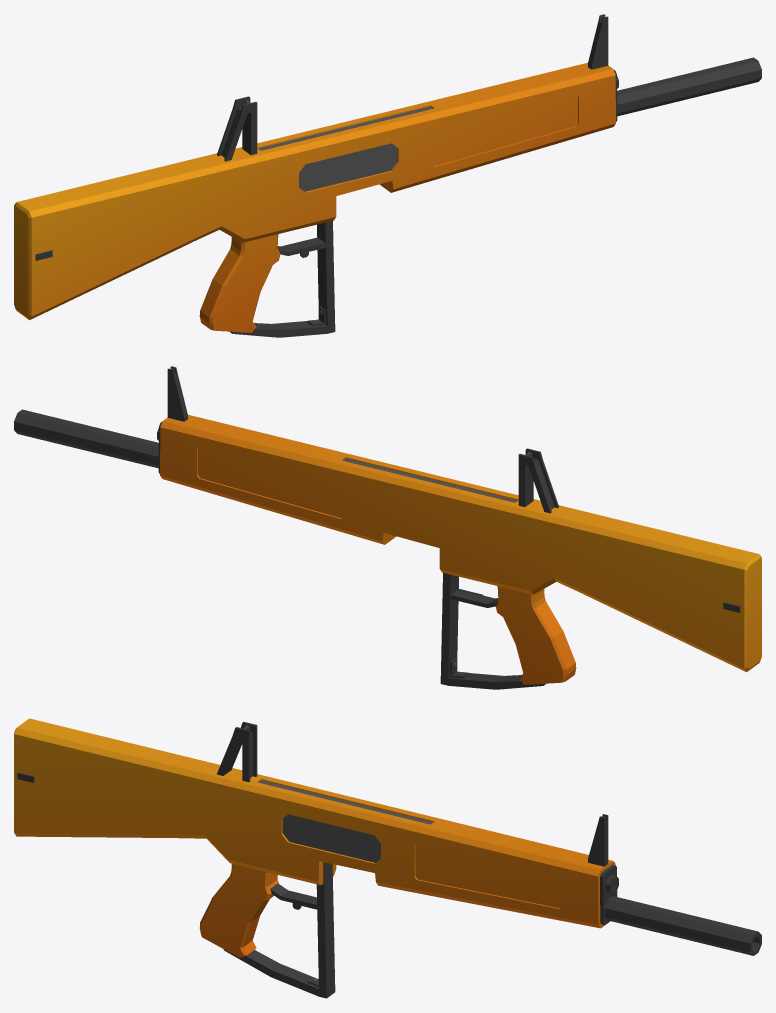
Rendered from Shotgun1_04.fbx.
3 renders of one model, top to bottom at view 1: azimuth 30°, elevation 25°; view 2: azimuth 150°, elevation 25°; view 3: azimuth 330°, elevation 25°, orthographic.
Visible parts, largest first — view 1: Shotgun1_04; view 2: Shotgun1_04; view 3: Shotgun1_04.
Boxes of the visible parts, x1,y1,x2,y2 form: Shotgun1_04: (14, 14, 761, 337); Shotgun1_04: (14, 366, 761, 689); Shotgun1_04: (14, 718, 761, 998).
Size of the model in its own units: 0.9412 by 0.3044 by 0.0423.
